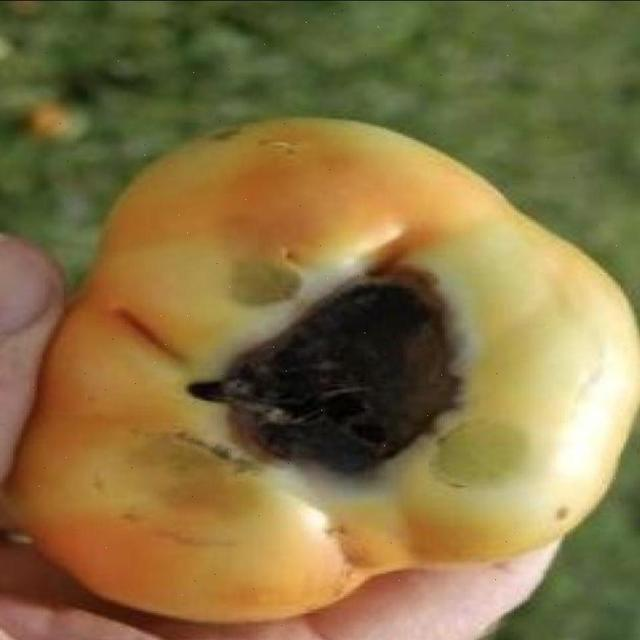Blossom End Rot Fruit: (102, 146, 324, 330)
